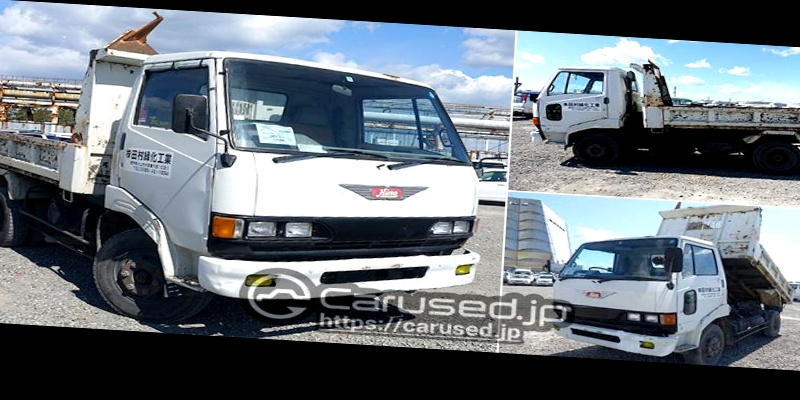truck: (0, 30, 483, 342), (537, 193, 800, 369), (527, 32, 800, 186)
